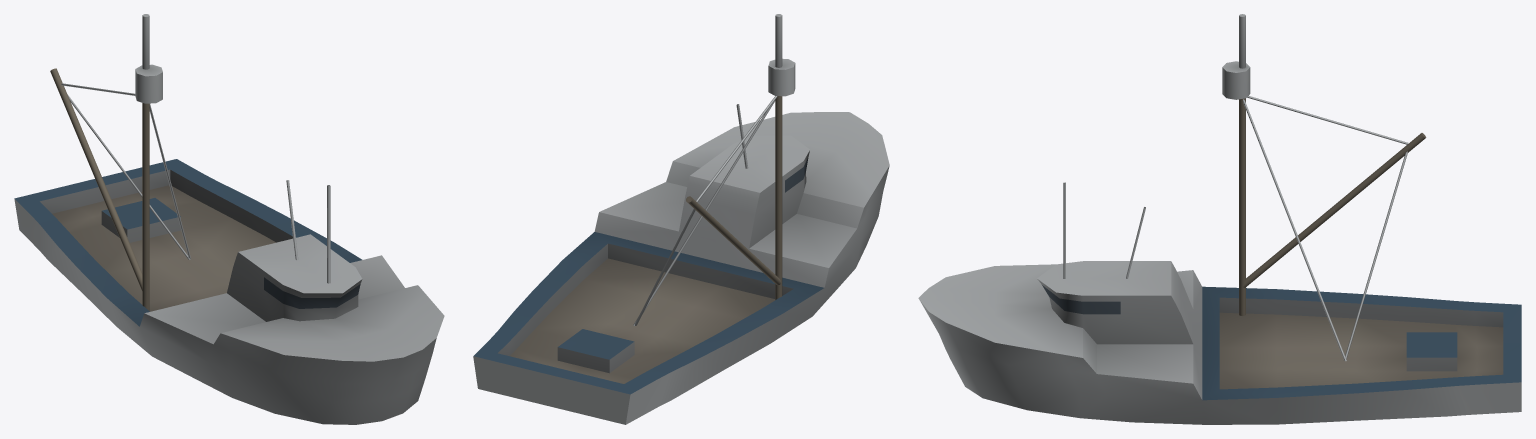
File: vehicles-boats-fishing-boat_v1.glb
The picture shows the model from 3 angles, left to right: view 1: azimuth 30°, elevation 25°; view 2: azimuth 150°, elevation 25°; view 3: azimuth 270°, elevation 25°; orthographic projection. The views are drawn at different scales.
Parts seen in each view (by area): view 1: Fishing Boat; view 2: Fishing Boat; view 3: Fishing Boat.
Part boxes in pixels (bbox=[...]): Fishing Boat: bbox=[14, 14, 444, 424]; Fishing Boat: bbox=[473, 14, 889, 424]; Fishing Boat: bbox=[918, 14, 1521, 424].
Bounding box in the file's own units: 6.68 × 9.29 × 15.
